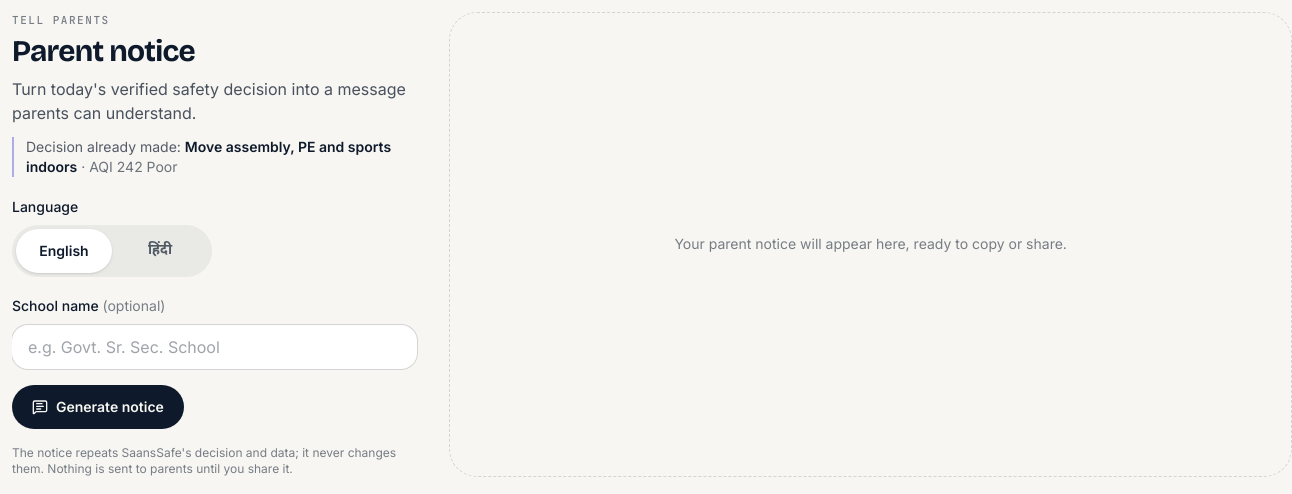
Scenario: ParentNotice › shows a skeleton and disables the controls while writing
What coordinates should you click on to do the following:
click the button "Generate notice"
I would click on:
 (98, 406)
Its box is 12,384 -> 184,428.
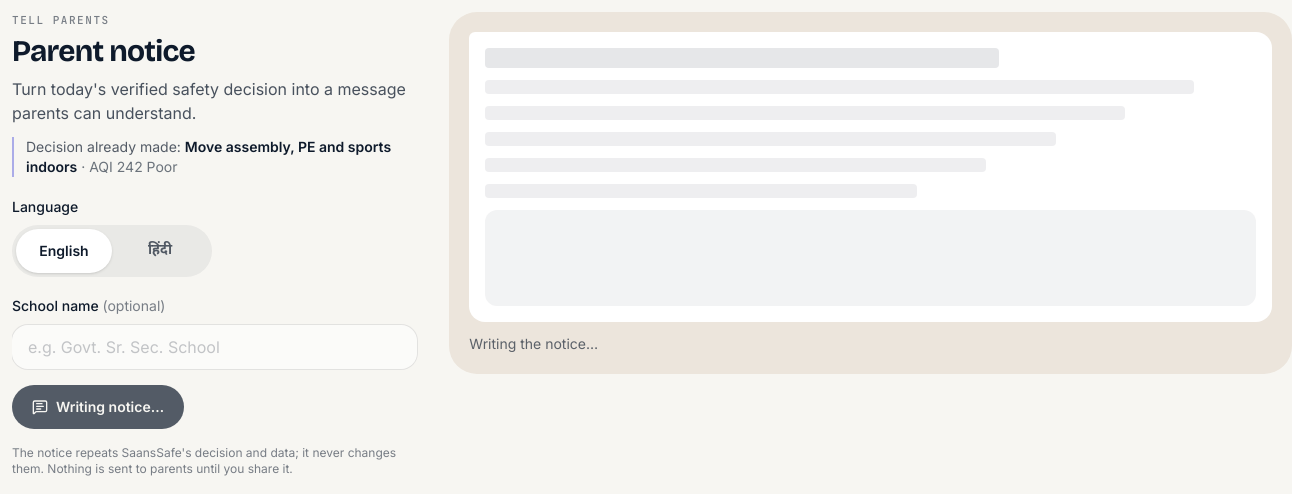
Check: the element with test id "notice-skeleton" is shown, box 449,12 -> 1291,374
Check: the button "Writing notice…" is disabled, box 12,384 -> 184,428
Check: the field labelled "School name (optional)" is disabled, box 12,324 -> 417,368
